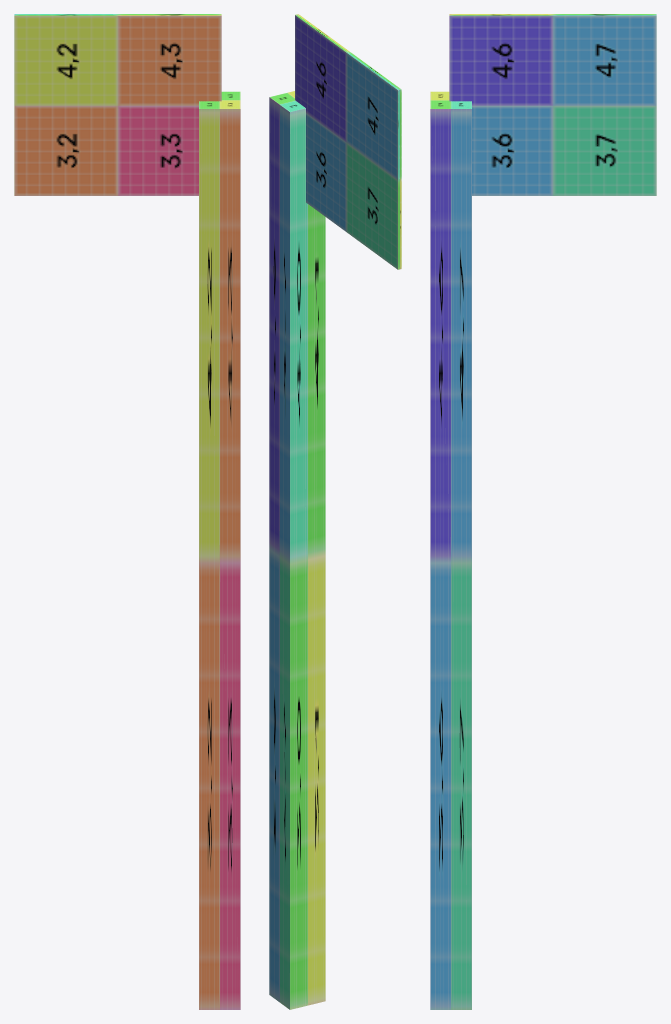
The model's file is halubaad.obj.
The picture shows the model from 3 angles, left to right: view 1: azimuth 90°, elevation 25°; view 2: azimuth 210°, elevation 25°; view 3: azimuth 270°, elevation 25°; orthographic projection.
Visible parts, largest first — view 1: CubeNormal_Cube.002; view 2: CubeNormal_Cube.002; view 3: CubeNormal_Cube.002.
Part boxes in pixels (<box>): CubeNormal_Cube.002: <box>14,14,240,1009</box>; CubeNormal_Cube.002: <box>269,14,401,1009</box>; CubeNormal_Cube.002: <box>430,14,656,1009</box>.
Bounding box in the file's own units: 0.1 × 2.63 × 0.5458.
Materials: 2 (2 with a texture image).
